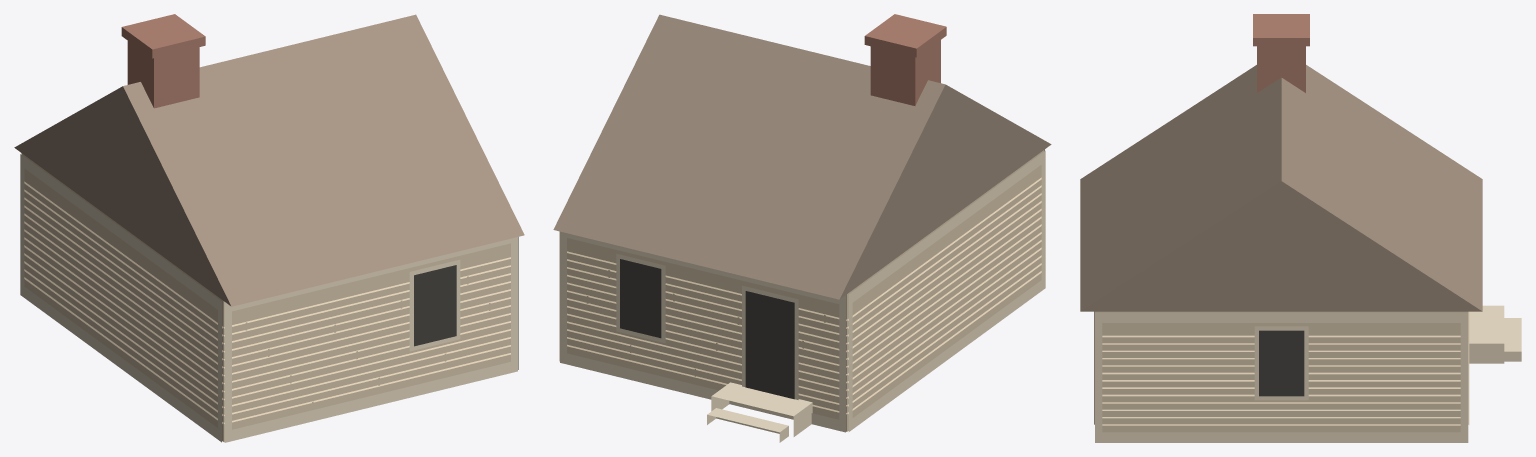
The model's file is recon_1835_blk_south_water_wells_d3_04__inferred_1835.glb.
3 views of the same model, side by side, from view 1: azimuth 30°, elevation 25°; view 2: azimuth 150°, elevation 25°; view 3: azimuth 270°, elevation 25° (orthographic). The views are drawn at different scales.
Visible parts, largest first — view 1: recon_1835_blk_south_water_wells_d3_04__inferred_1835; view 2: recon_1835_blk_south_water_wells_d3_04__inferred_1835; view 3: recon_1835_blk_south_water_wells_d3_04__inferred_1835.
Boxes of the visible parts, x1,y1,x2,y2 form: recon_1835_blk_south_water_wells_d3_04__inferred_1835: (14, 14, 524, 442); recon_1835_blk_south_water_wells_d3_04__inferred_1835: (553, 14, 1051, 442); recon_1835_blk_south_water_wells_d3_04__inferred_1835: (1080, 14, 1521, 442).
Size of the model in its own units: 5.47 by 5.74 by 7.59.
